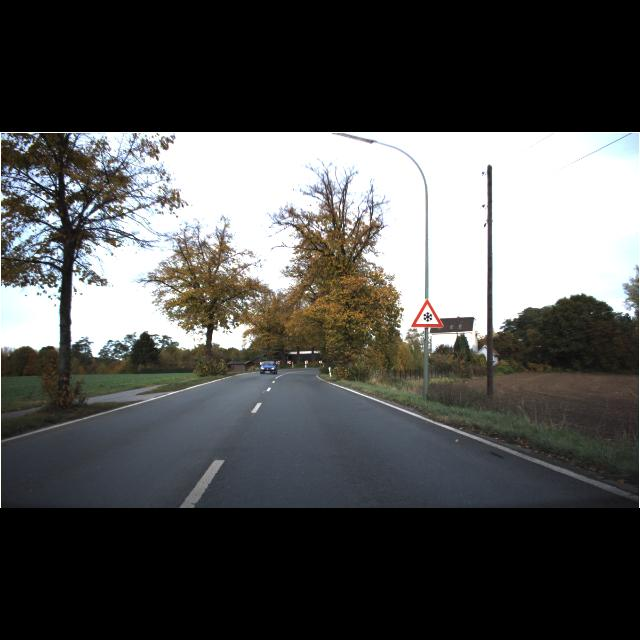danger: (411, 298, 444, 328)
